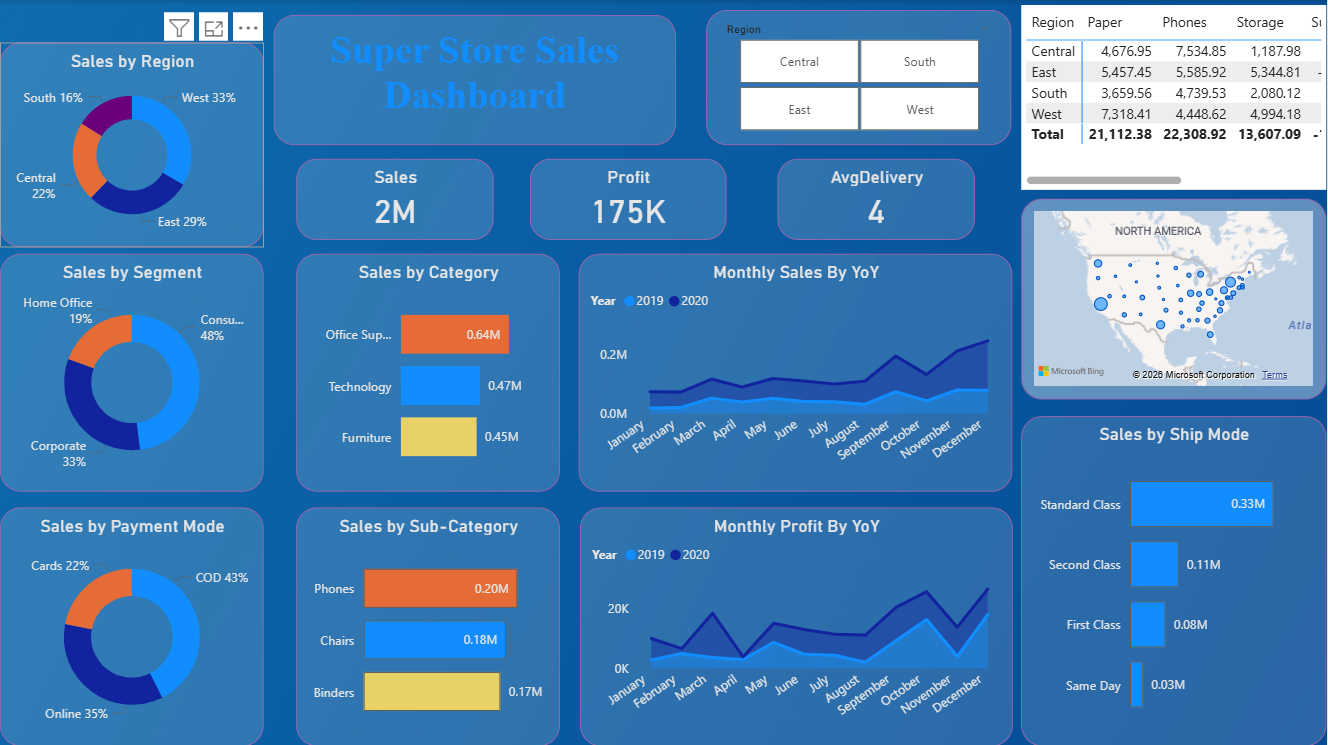

Layout of this report page (visuals, bound fields, positions):
{"tool":"powerbi","page":{"name":"Page 1","canvas":[1280,720],"ordinal":0},"visuals":[{"type":"clusteredBarChart","title":"Sales by Category","fields":{"Category":["SuperStore_Sales_Dataset.Category"],"Y":["Sum(SuperStore_Sales_Dataset.Sales)"]},"box":[285.9,244.9,254.6,229.2],"z":0},{"type":"clusteredBarChart","title":"Sales by Sub-Category","fields":{"Y":["Sum(SuperStore_Sales_Dataset.Sales)"],"Category":["SuperStore_Sales_Dataset.Sub-Category"]},"box":[285.9,489.8,254.6,230.4],"z":1000},{"type":"clusteredBarChart","title":"Sales by Ship Mode","fields":{"Y":["Sum(SuperStore_Sales_Dataset.Sales)"],"Category":["SuperStore_Sales_Dataset.Ship Mode"]},"box":[985.7,401.7,294.4,318.5],"z":2000},{"type":"stackedAreaChart","title":"Monthly Sales By YoY","fields":{"Y":["Sum(SuperStore_Sales_Dataset.Sales)"],"Series":["SuperStore_Sales_Dataset.Order Date.Variation.Date Hierarchy.Year"],"Category":["SuperStore_Sales_Dataset.Order Date.Variation.Date Hierarchy.Month"]},"box":[558.6,244.9,418.6,229.2],"z":3000},{"type":"stackedAreaChart","title":"Monthly Profit By YoY","fields":{"Series":["SuperStore_Sales_Dataset.Order Date.Variation.Date Hierarchy.Year"],"Category":["SuperStore_Sales_Dataset.Order Date.Variation.Date Hierarchy.Month"],"Y":["Sum(SuperStore_Sales_Dataset.Profit)"]},"box":[559.8,489.8,417.4,230.4],"z":4000},{"type":"map","fields":{"Category":["SuperStore_Sales_Dataset.State"],"Size":["Sum(SuperStore_Sales_Dataset.Sales)"]},"box":[985.4,191.9,294.3,193.3],"z":5000},{"type":"donutChart","title":"Sales by Segment","fields":{"Category":["SuperStore_Sales_Dataset.Segment"],"Y":["Sum(SuperStore_Sales_Dataset.Sales)"]},"box":[0,244.9,254.6,229.2],"z":6000},{"type":"donutChart","title":"Sales by Payment Mode","fields":{"Y":["Sum(SuperStore_Sales_Dataset.Sales)"],"Category":["SuperStore_Sales_Dataset.Payment Mode"]},"box":[0,489.8,254.6,230.4],"z":7000},{"type":"slicer","fields":{"Values":["SuperStore_Sales_Dataset.Region"]},"box":[681.6,9.7,294.4,130.3],"z":8000},{"type":"card","title":"Sales","fields":{"Values":["Sum(SuperStore_Sales_Dataset.Sales)"]},"box":[285.9,153.2,190.6,78.4],"z":9000},{"type":"card","title":"Profit","fields":{"Values":["Sum(SuperStore_Sales_Dataset.Profit)"]},"box":[511.5,153.2,189.4,78.4],"z":10000},{"type":"card","title":"AvgDelivery","fields":{"Values":["Avg(SuperStore_Sales_Dataset.AvgDelivery)"]},"box":[750.4,153.2,190.6,78.4],"z":11000},{"type":"donutChart","title":"Sales by Region","fields":{"Y":["Sum(SuperStore_Sales_Dataset.Sales)"],"Category":["SuperStore_Sales_Dataset.Region"]},"box":[0,41,254.6,197.9],"z":12000},{"type":"textbox","box":[264,14.4,388.1,125.5],"z":13000},{"type":"pivotTable","fields":{"Rows":["SuperStore_Sales_Dataset.Region"],"Columns":["SuperStore_Sales_Dataset.Sub-Category"],"Values":["Sum(SuperStore_Sales_Dataset.Profit)"]},"box":[985.7,4.8,294.4,178.6],"z":14000}]}

Visuals, with their boxes in screenshot pixels (x1, y1, x2, y2), scaled from the page's 1280x720 canvas onto the 1328x745 screenshot:
"Sales by Category" clusteredBarChart: bbox=[297, 253, 561, 491]
"Sales by Sub-Category" clusteredBarChart: bbox=[297, 507, 561, 744]
"Sales by Ship Mode" clusteredBarChart: bbox=[1023, 416, 1327, 744]
"Monthly Sales By YoY" stackedAreaChart: bbox=[580, 253, 1014, 491]
"Monthly Profit By YoY" stackedAreaChart: bbox=[581, 507, 1014, 744]
map - SuperStore_Sales_Dataset.State x Sum(SuperStore_Sales_Dataset.Sales): bbox=[1022, 199, 1327, 399]
"Sales by Segment" donutChart: bbox=[0, 253, 264, 491]
"Sales by Payment Mode" donutChart: bbox=[0, 507, 264, 744]
slicer - SuperStore_Sales_Dataset.Region: bbox=[707, 10, 1013, 145]
"Sales" card: bbox=[297, 159, 494, 240]
"Profit" card: bbox=[531, 159, 727, 240]
"AvgDelivery" card: bbox=[779, 159, 976, 240]
"Sales by Region" donutChart: bbox=[0, 42, 264, 247]
textbox: bbox=[274, 15, 677, 145]
pivotTable - SuperStore_Sales_Dataset.Region x SuperStore_Sales_Dataset.Sub-Category: bbox=[1023, 5, 1327, 190]
